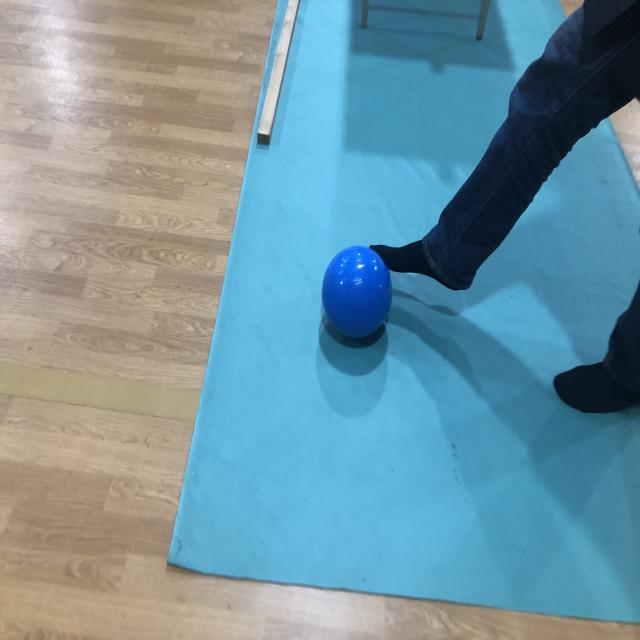blue_ball: (320, 248, 396, 349)
